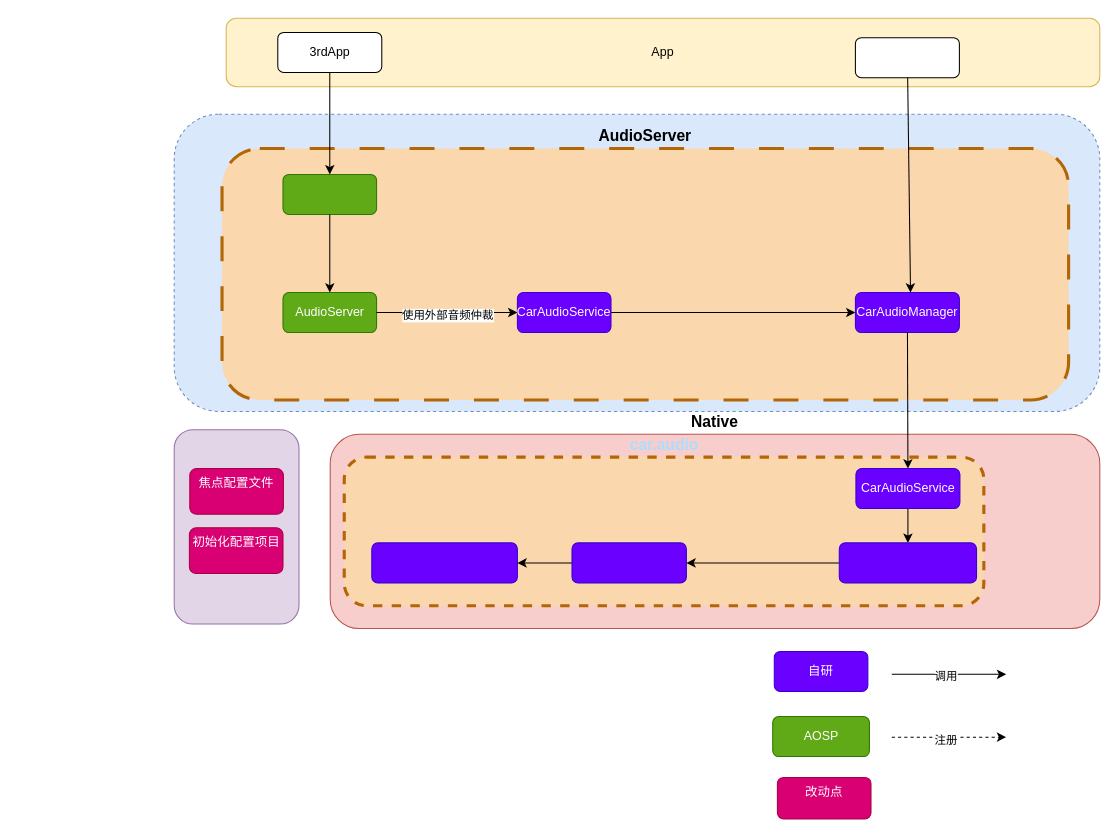
Image size: 1118x837. Some labels were removed from this diagram. Each missing label, with the box of its shape:
ArbitrationEngine: (371, 542, 517, 583)
AudiManager: (282, 173, 377, 214)
AudioFocusControl: (571, 542, 686, 583)
AudioZoneFocusControl: (838, 542, 977, 583)
CarApp: (854, 37, 959, 78)
Framework: (173, 113, 1100, 411)
配置: (173, 429, 299, 624)
